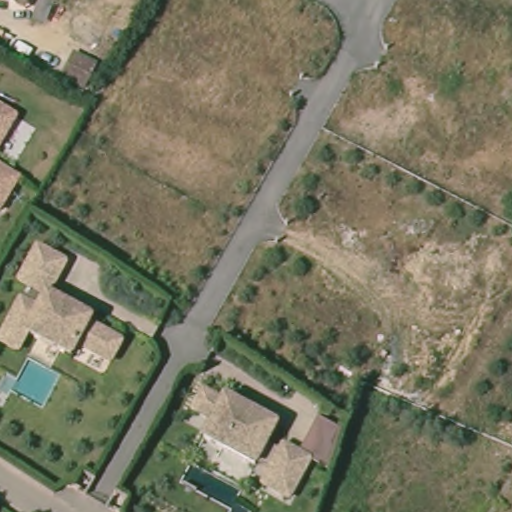pool: (11, 359, 61, 408)
